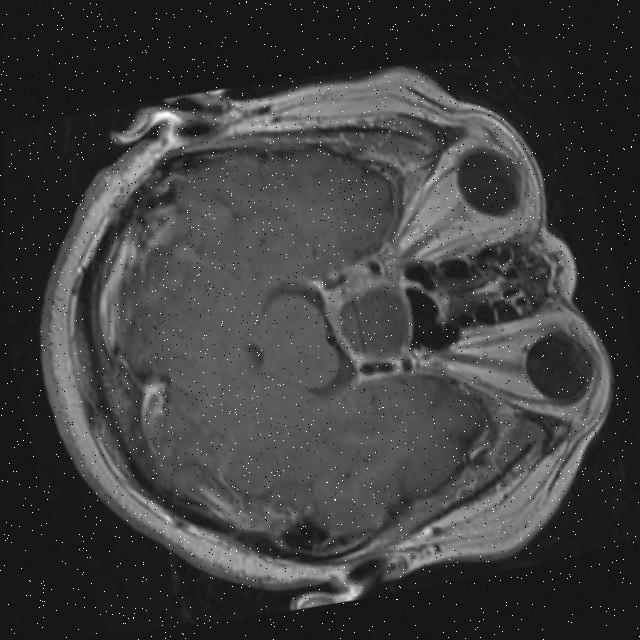Pituitary: (315, 266, 424, 379)
